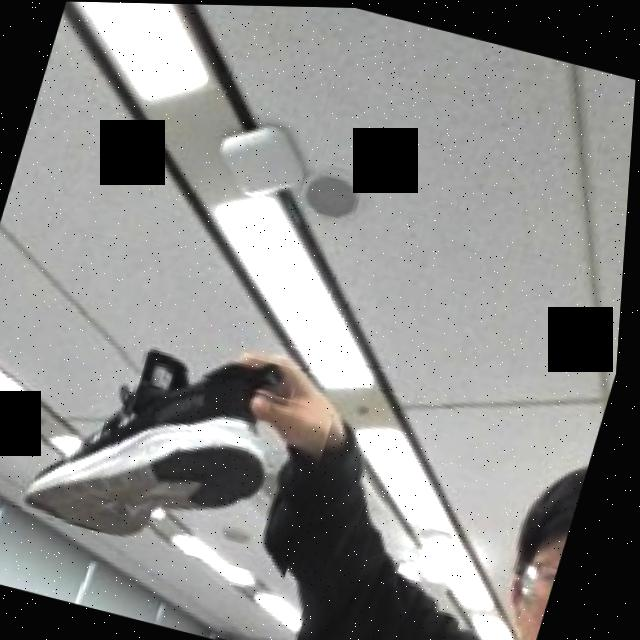shoe: (0, 324, 346, 578)
